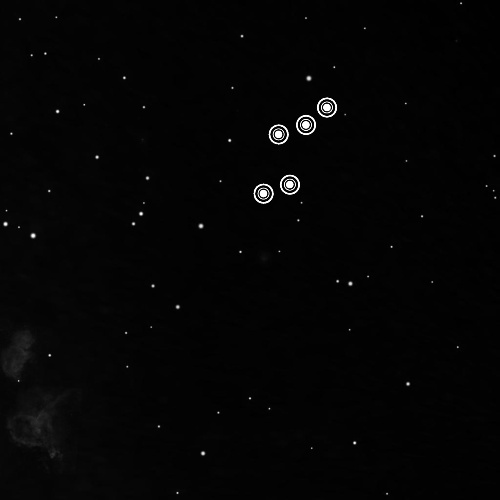lyra: (247, 86, 348, 215)
